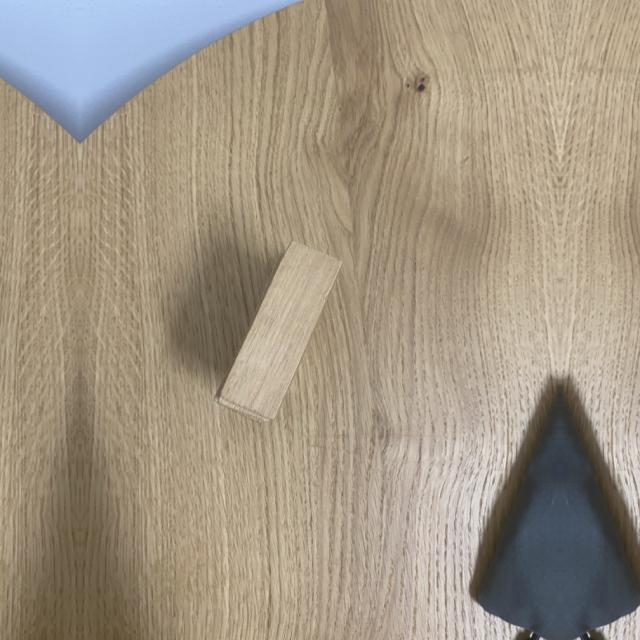jenga: (216, 243, 342, 424)
